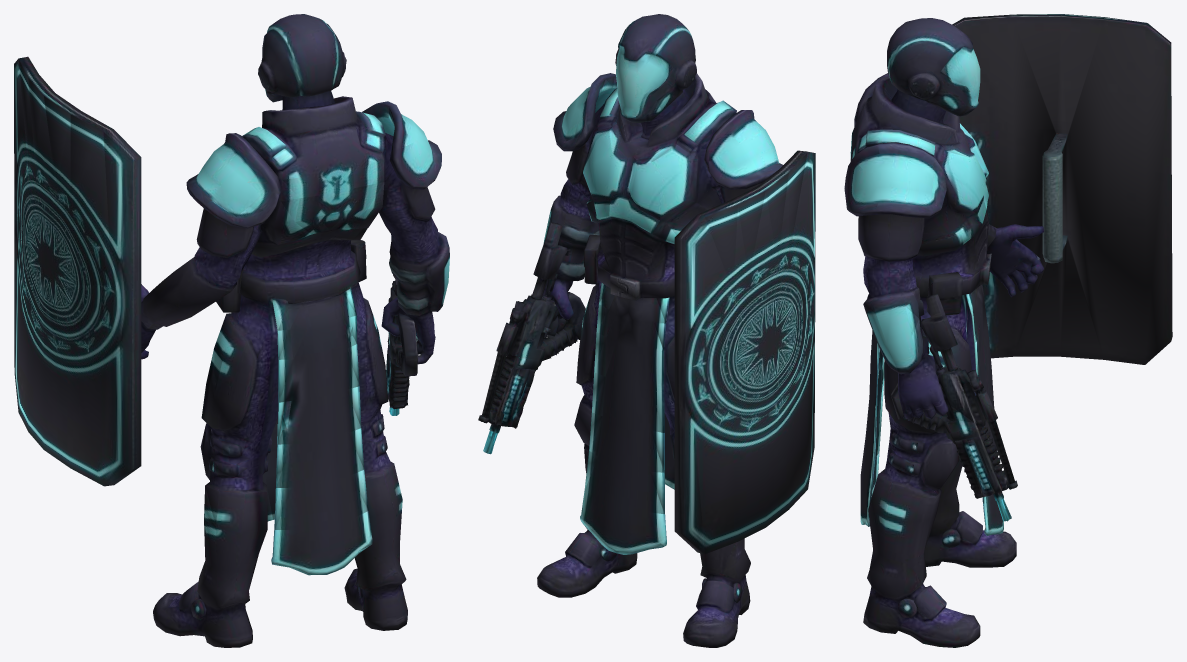
File: clearance_trooper.glb
3 renders of one model, left to right at view 1: azimuth 30°, elevation 25°; view 2: azimuth 150°, elevation 25°; view 3: azimuth 270°, elevation 25°, orthographic. The views are drawn at different scales.
Parts seen in each view (by area): view 1: Body, Trim; view 2: Body, Trim; view 3: Body, Trim.
Part boxes in pixels (x1,y1,x2,y2): Body: [14, 14, 449, 647]; Trim: [17, 21, 449, 575]; Body: [478, 14, 815, 647]; Trim: [483, 20, 815, 555]; Body: [844, 14, 1172, 647]; Trim: [850, 35, 1011, 535].
Bounding box in the file's own units: 1.02 × 1.8 × 0.9264.
Materials: 2 (2 with a texture image).
